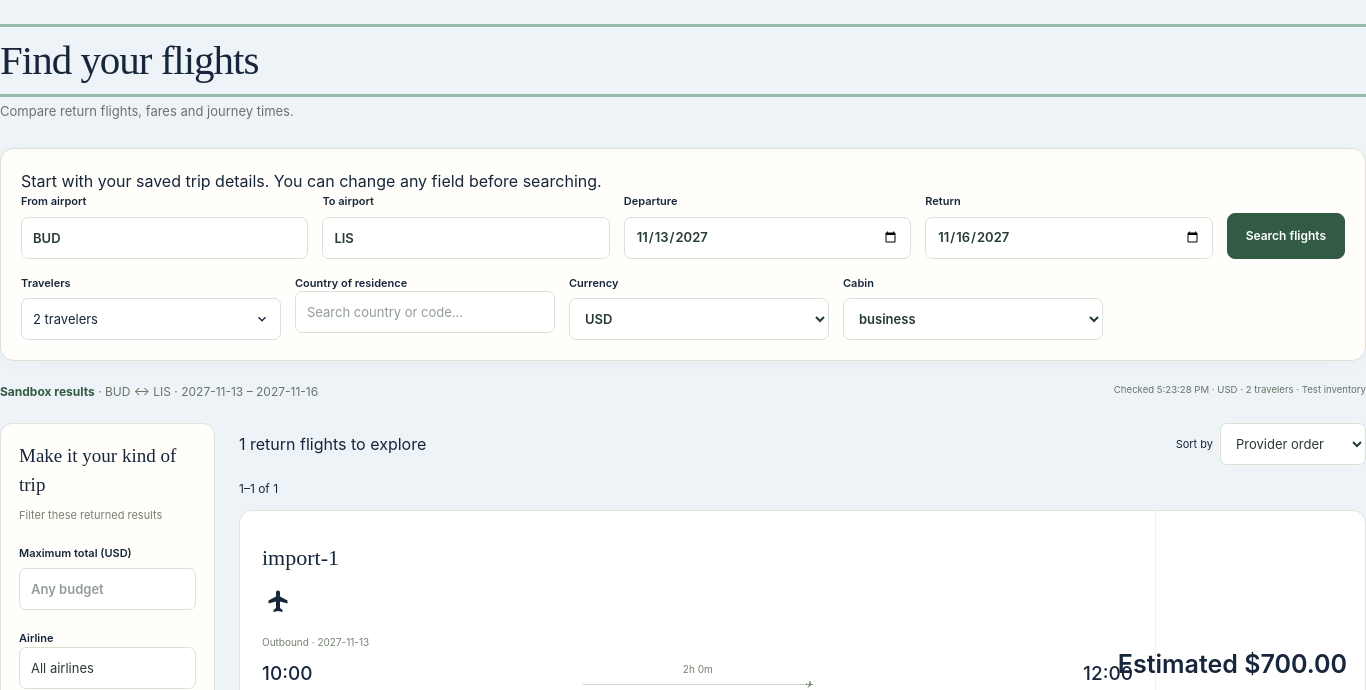
closed flight picker exposes a missing child age before searching
Click the button "2 travelers".
click(71, 319)  # box [21,298,281,340]
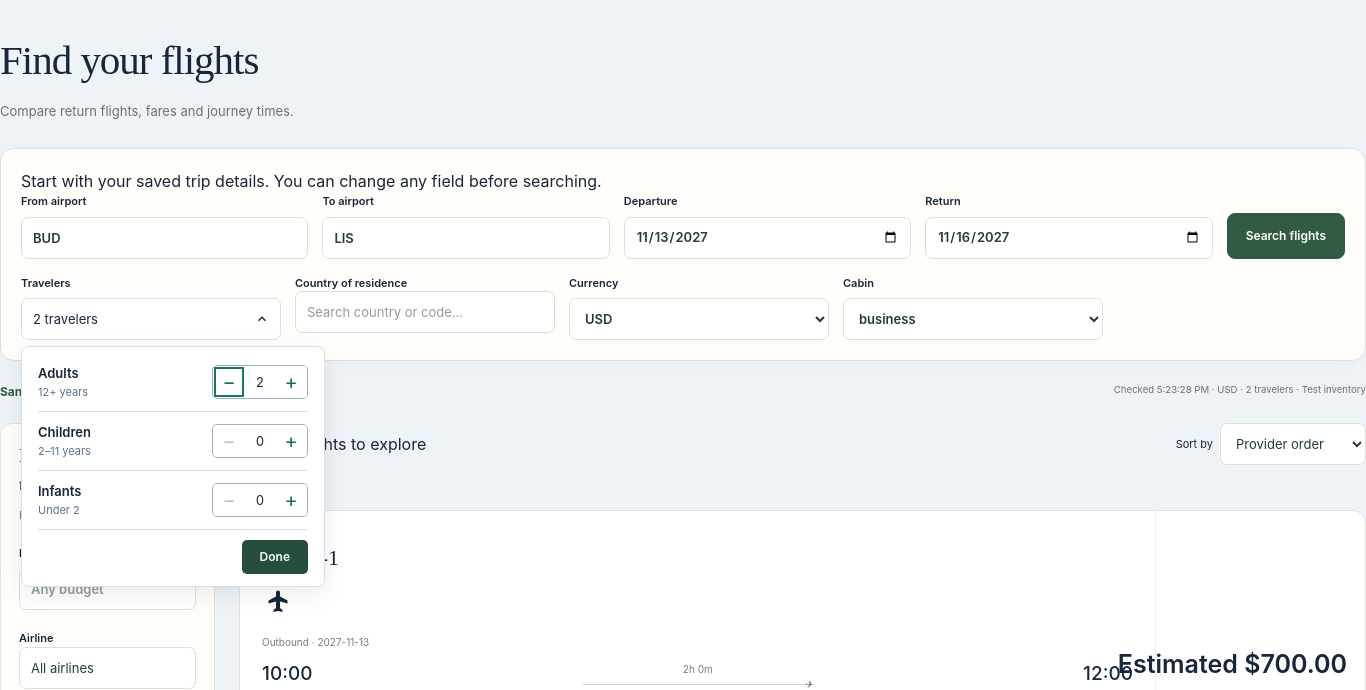
Click the button named "Add child".
click(291, 441)  # box [275,425,307,457]
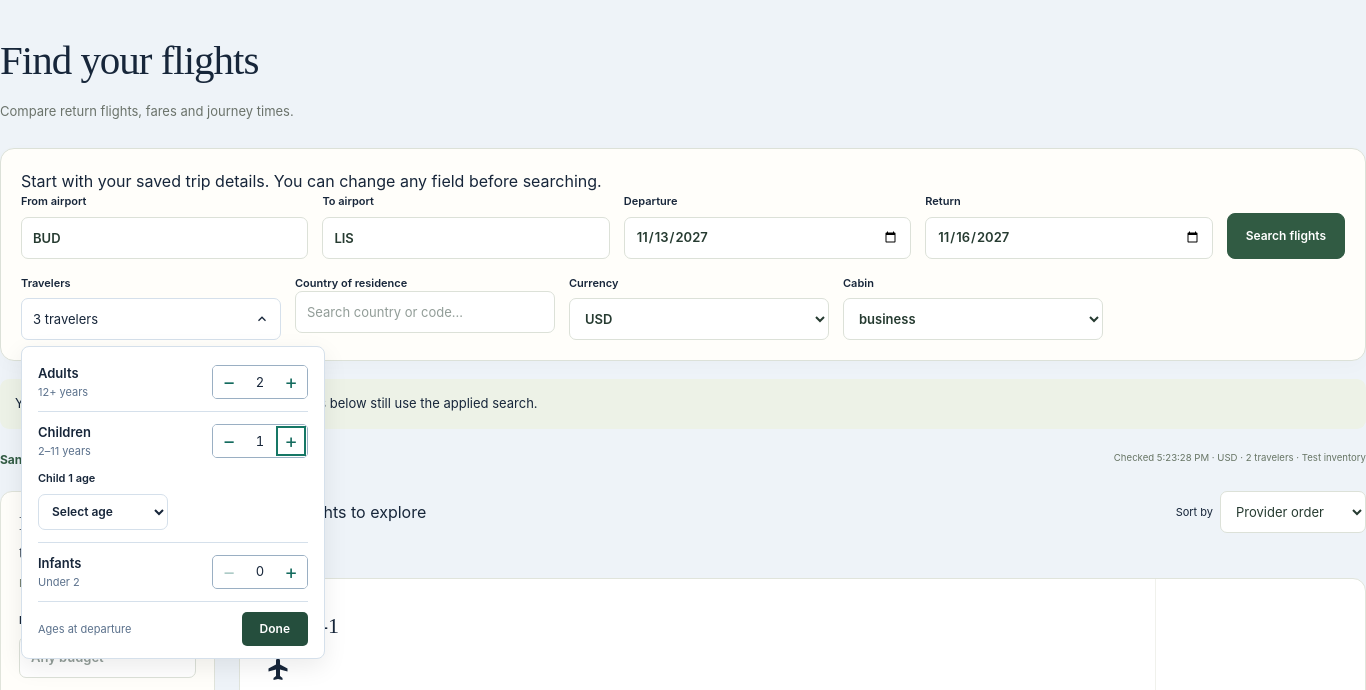
Press Escape
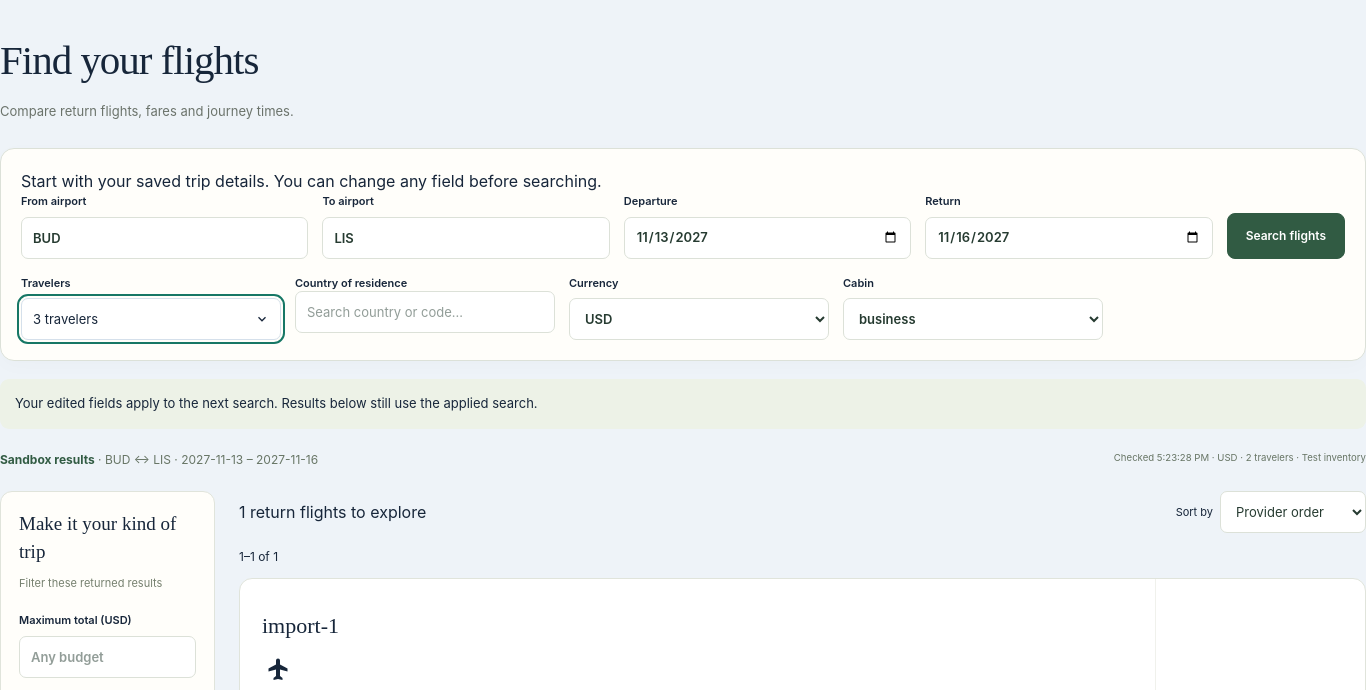
Result: the button "3 travelers" is collapsed at [21,298,281,340]
Click the button "Search flights".
click(1286, 236)  # box [1227,213,1345,259]
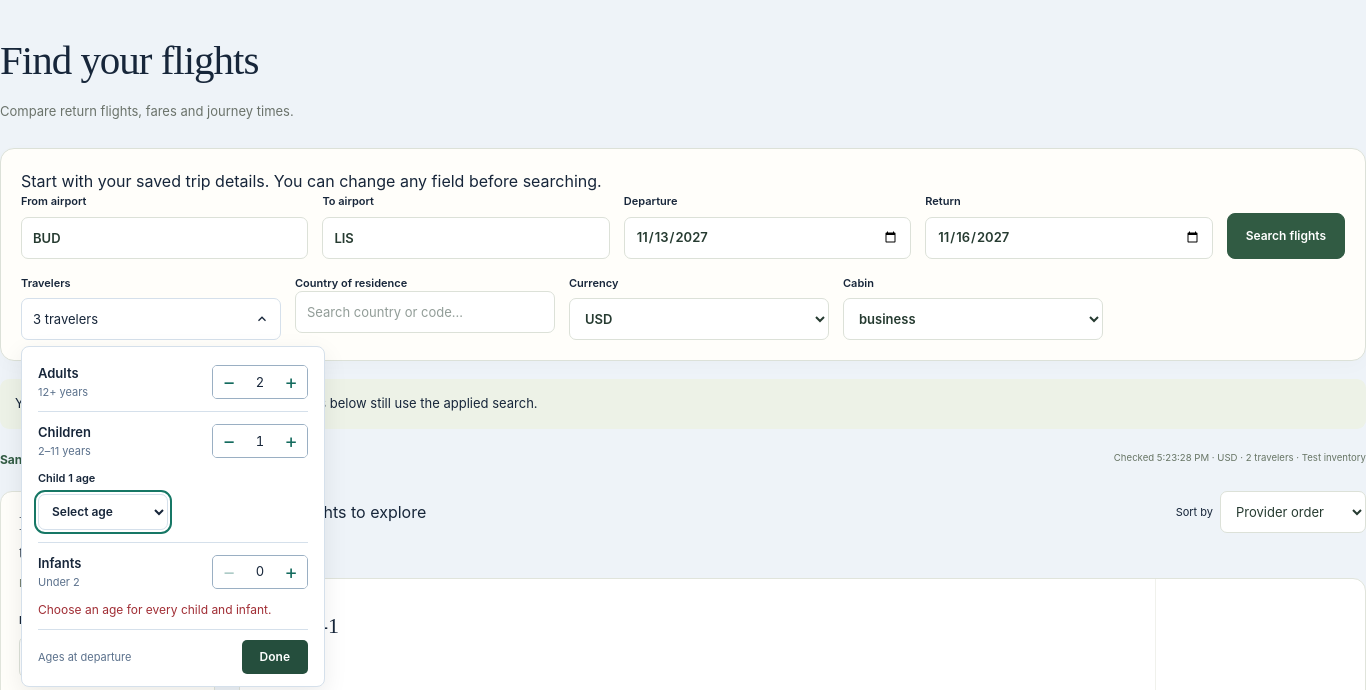
Result: the button "3 travelers" is expanded at [21,298,281,340]
